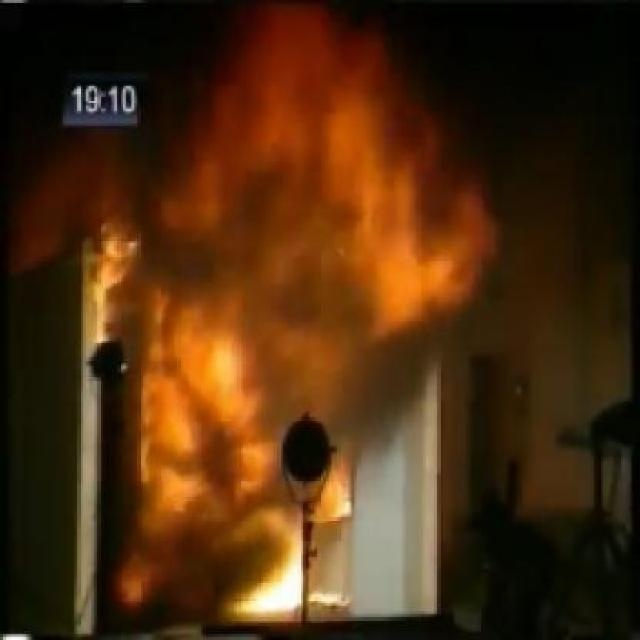fire: (123, 14, 434, 482)
